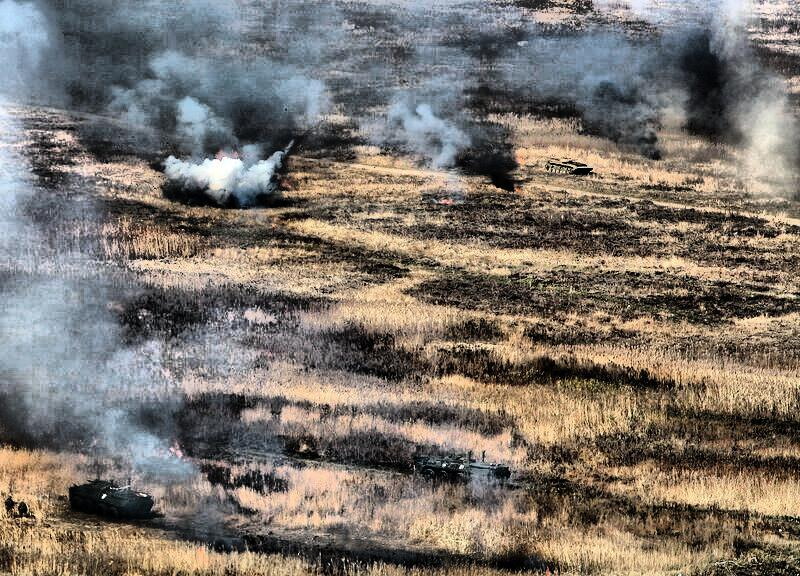military-vehicle: (69, 477, 155, 522), (420, 455, 513, 488), (544, 155, 595, 176)
